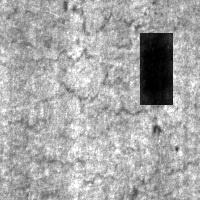crazing: (24, 125, 196, 187), (31, 48, 175, 119), (57, 1, 164, 50)
patches: (140, 33, 173, 105)
